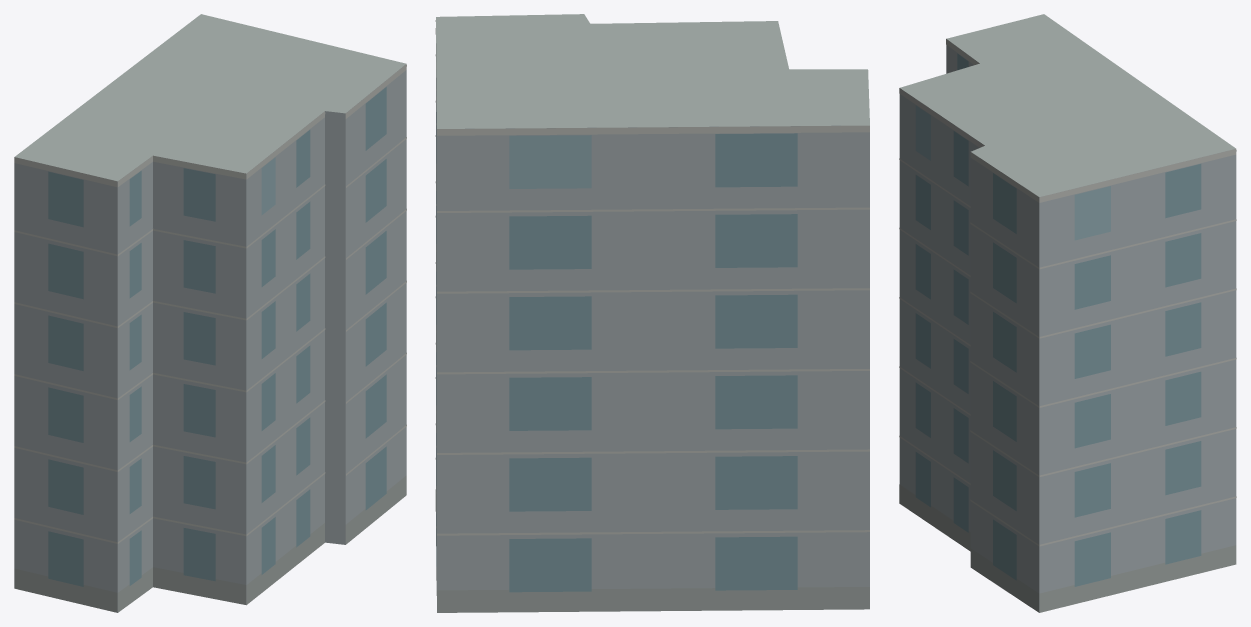
The model's file is survey-upis-32736704.glb.
3 views of the same model, side by side, from view 1: azimuth 30°, elevation 25°; view 2: azimuth 150°, elevation 25°; view 3: azimuth 270°, elevation 25° (orthographic). The views are drawn at different scales.
Visible parts, largest first — view 1: survey-upis-32736704.tmp; view 2: survey-upis-32736704.tmp; view 3: survey-upis-32736704.tmp.
Part boxes in pixels (left/top/right/bottom): survey-upis-32736704.tmp: left=14, top=14, right=406, bottom=612; survey-upis-32736704.tmp: left=435, top=14, right=869, bottom=612; survey-upis-32736704.tmp: left=899, top=14, right=1236, bottom=612.
Size of the model in its own units: 16.47 by 17.4 by 12.8.
